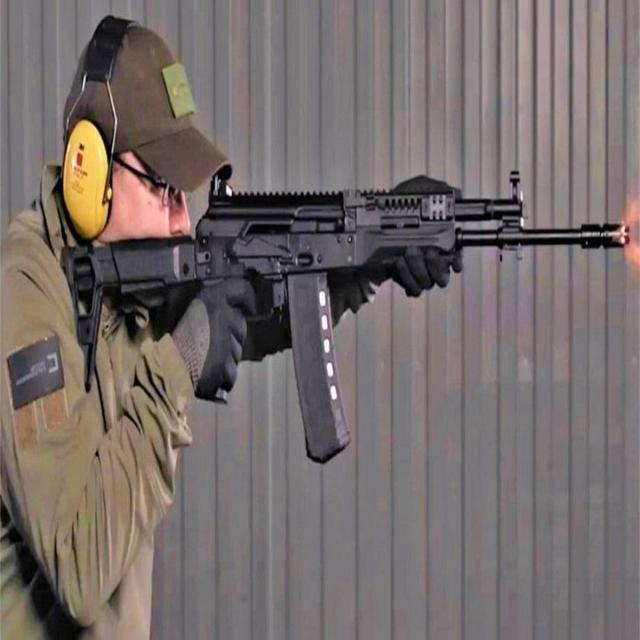weapon: (64, 163, 630, 464)
